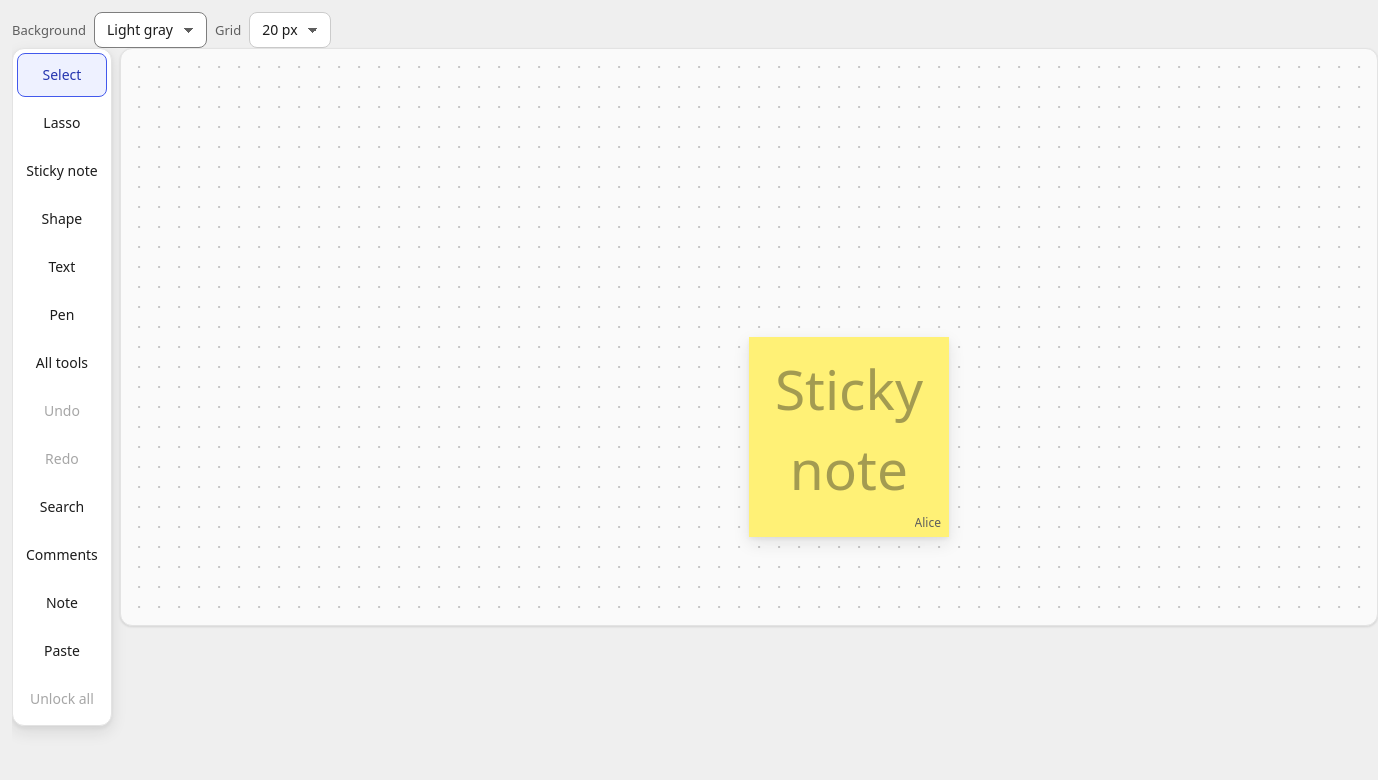
Test case: CVS-22: автор и даты › панель выделения показывает автора, создание и последнее изменение другим участником
Press the mouse on the element showing "Sticky note Alice" at {"x": 849, "y": 437}, box [749, 337, 949, 537]
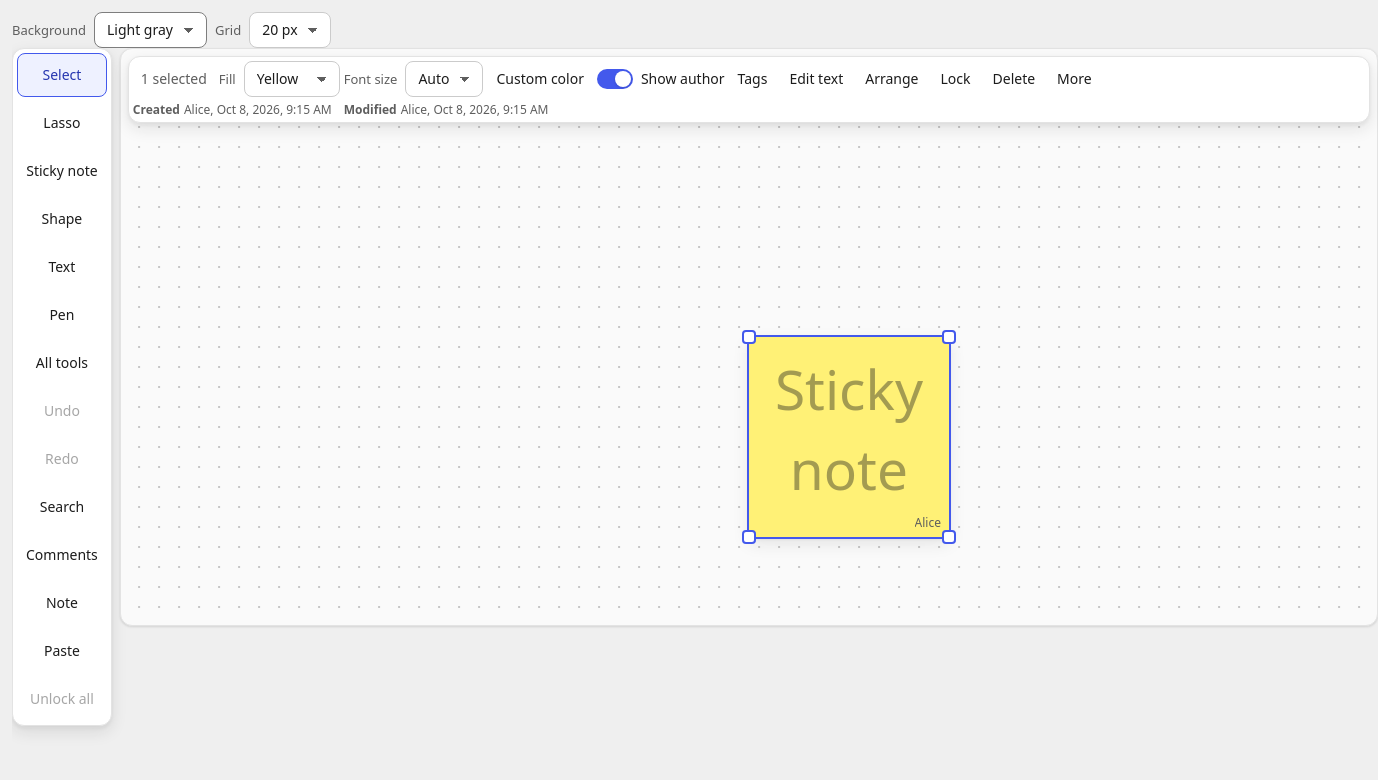
Expected: the element with test id "object-created" shows "Alice", [184, 101, 210, 118]
Press the mouse on the element showing "Sticky note Alice" at {"x": 849, "y": 437}, box [749, 337, 949, 537]
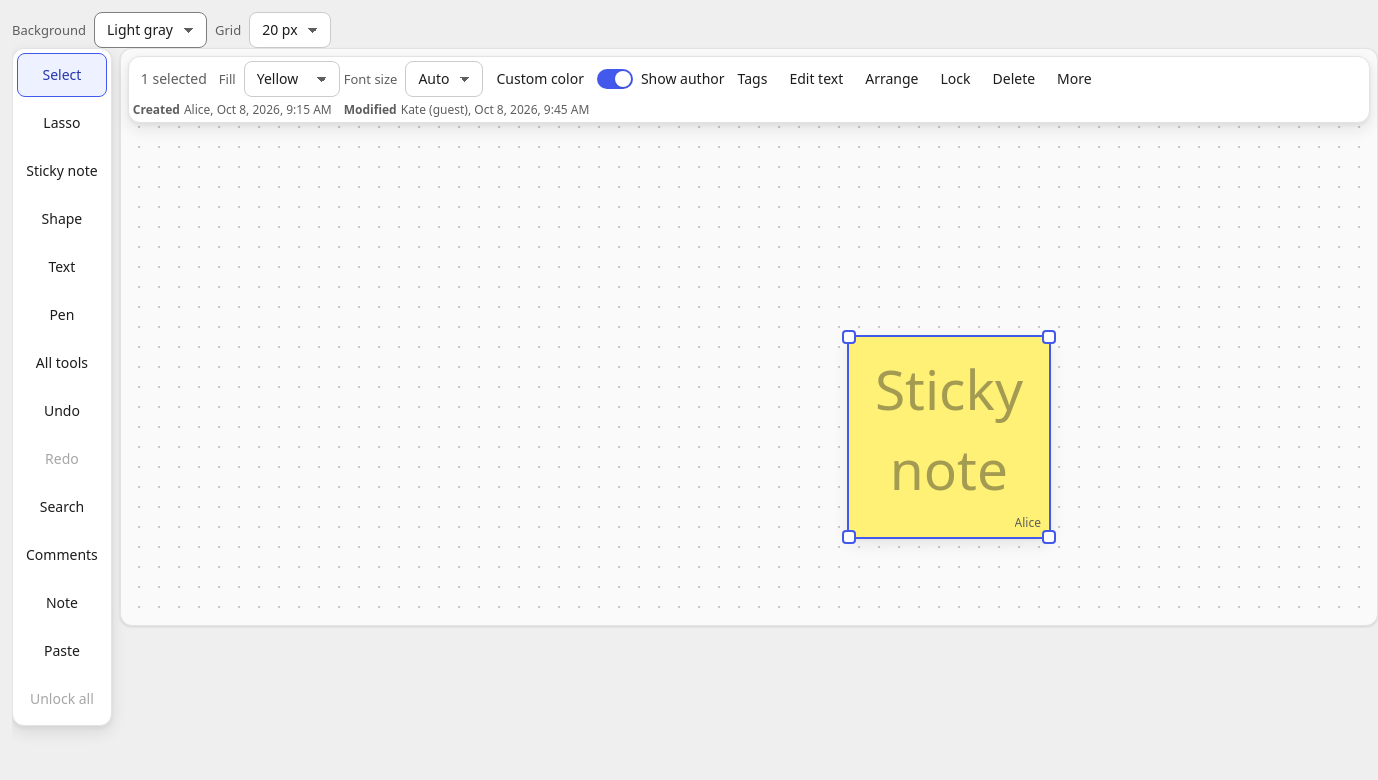
Expected: the 2nd text "Alice" is shown, [1014, 515, 1041, 531]
Expected: the element with test id "object-modified" shows "Kate (guest)", [401, 101, 468, 118]
Expected: the text "Kate (guest)" is shown, [401, 101, 468, 118]
